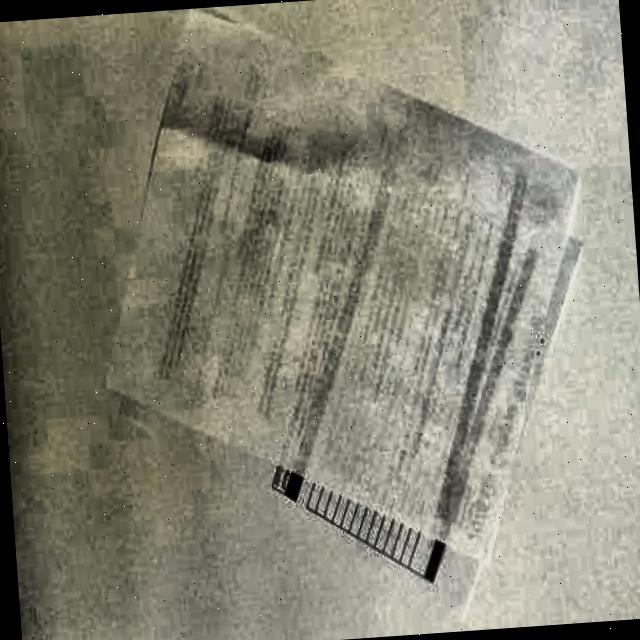paper: (75, 1, 614, 640)
